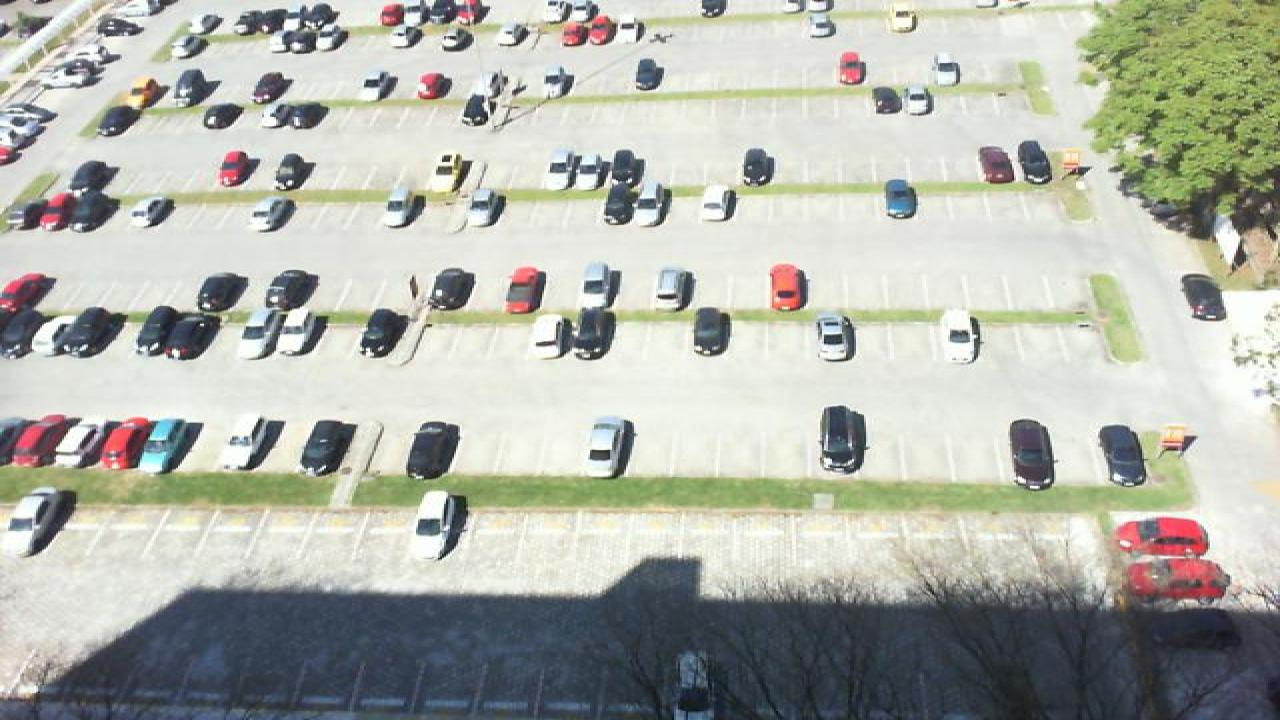Car: (0, 487, 76, 557), (1120, 558, 1230, 604), (1110, 513, 1216, 558), (412, 488, 468, 562), (818, 404, 870, 476), (404, 420, 462, 480), (1010, 417, 1056, 490), (300, 420, 358, 477), (12, 414, 74, 467), (1098, 423, 1148, 487), (582, 417, 632, 480), (138, 417, 192, 475), (220, 414, 274, 471), (98, 415, 152, 471), (162, 307, 216, 361), (50, 417, 106, 466), (76, 305, 126, 359), (936, 308, 982, 366), (134, 305, 184, 357), (28, 314, 86, 358), (358, 307, 406, 359), (264, 268, 320, 312), (0, 308, 50, 357), (574, 306, 618, 361), (0, 272, 56, 315), (234, 310, 280, 362), (192, 271, 250, 312), (274, 307, 320, 358), (764, 262, 810, 313), (812, 314, 858, 363), (528, 313, 574, 361), (502, 264, 546, 314), (652, 264, 696, 314), (690, 306, 732, 358), (1184, 273, 1228, 322), (428, 150, 472, 196), (578, 261, 620, 309), (464, 184, 506, 231), (78, 189, 122, 233), (172, 68, 218, 110), (248, 194, 296, 234), (40, 190, 82, 234), (68, 158, 118, 194), (382, 184, 422, 228), (1014, 138, 1052, 184), (94, 102, 142, 138), (880, 176, 918, 221), (216, 148, 258, 188), (974, 144, 1016, 184), (540, 148, 578, 192), (250, 68, 294, 106), (600, 182, 636, 228), (604, 149, 644, 190), (696, 183, 736, 223), (740, 146, 778, 188), (128, 196, 176, 229), (274, 152, 314, 191), (634, 182, 668, 226), (2, 200, 48, 232), (124, 77, 166, 110), (538, 65, 576, 100), (286, 100, 330, 130), (574, 149, 606, 190), (360, 68, 398, 100), (200, 104, 246, 130), (900, 83, 934, 117), (460, 93, 494, 127), (836, 50, 868, 86), (632, 55, 664, 91), (932, 50, 962, 88), (256, 100, 296, 128), (870, 83, 902, 116), (416, 71, 450, 101)
